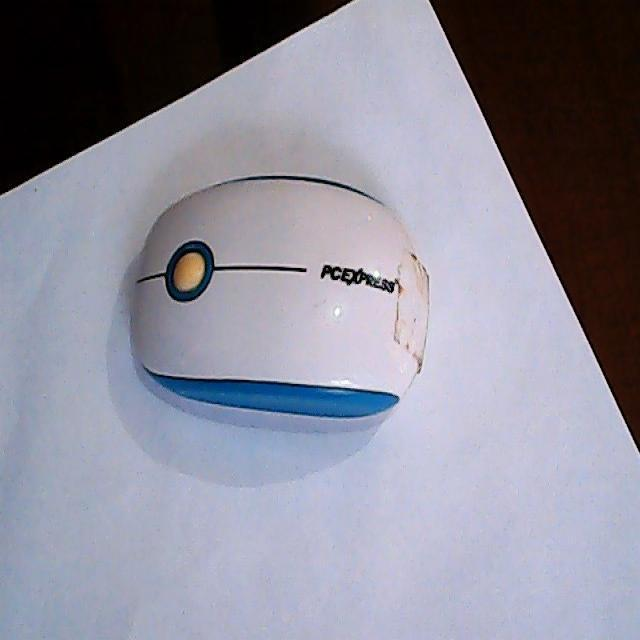Mouse: (130, 172, 430, 418)
